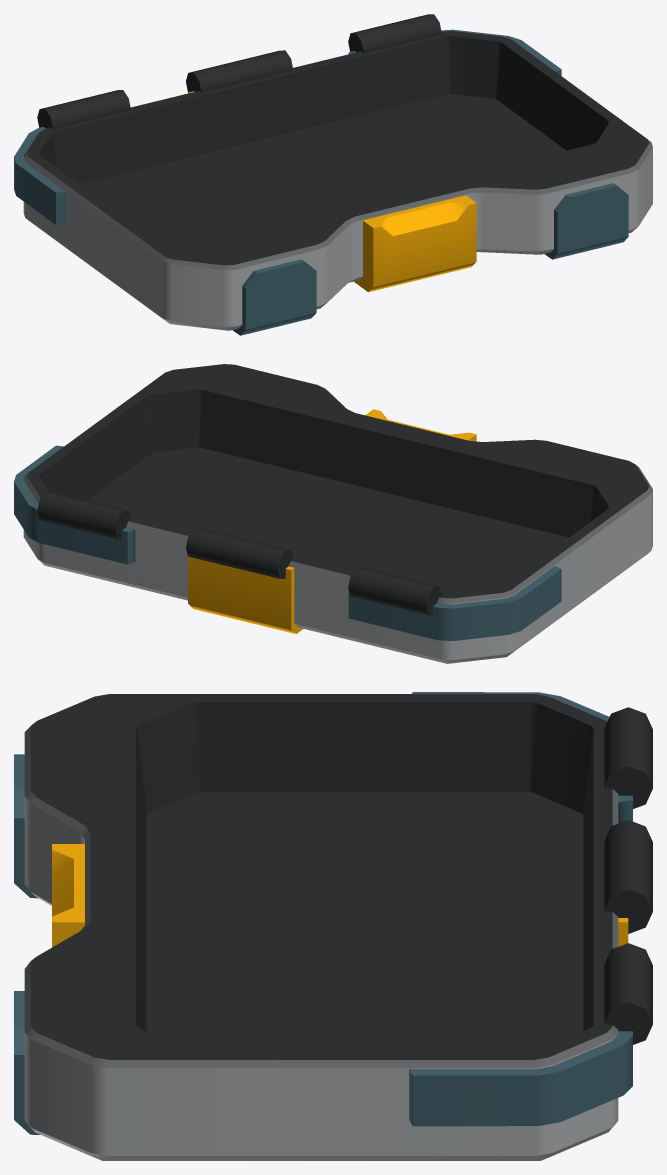
Rendered from Crate_004.fbx.
3 renders of one model, top to bottom at view 1: azimuth 30°, elevation 25°; view 2: azimuth 150°, elevation 25°; view 3: azimuth 270°, elevation 25°, orthographic. The views are drawn at different scales.
Visible parts, largest first — view 1: Crate_004; view 2: Crate_004; view 3: Crate_004.
Boxes of the visible parts, left/top/right/bottom form: Crate_004: left=14, top=14, right=652, bottom=335; Crate_004: left=14, top=364, right=652, bottom=663; Crate_004: left=14, top=692, right=652, bottom=1160.
Bounding box in the file's own units: 74.13 × 52.18 × 12.21.
